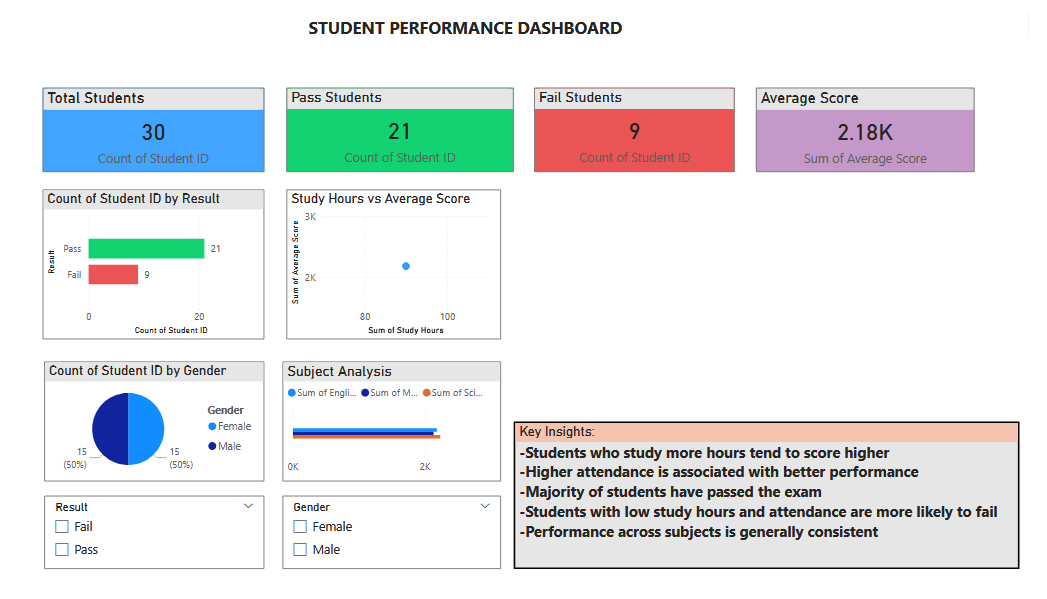

The dashboard page shown, as its layout file describes it:
{"tool":"powerbi","page":{"name":"Page 1","canvas":[1280,720],"ordinal":0},"visuals":[{"type":"card","title":"Total Students","fields":{"Values":["CountNonNull(cleaned_student_data.Student ID)"]},"box":[30.2,95.7,280.5,107.5],"z":0},{"type":"card","title":"Average Score","fields":{"Values":["Sum(cleaned_student_data.Average Score)"]},"box":[934,95.7,277.2,107.5],"z":1000},{"type":"card","title":"Pass Students","fields":{"Values":["CountNonNull(cleaned_student_data.Student ID)"]},"box":[339.3,95.7,287.2,107.5],"z":2000},{"type":"clusteredBarChart","fields":{"Category":["cleaned_student_data.Result"],"Y":["CountNonNull(cleaned_student_data.Student ID)"]},"box":[30.2,225.1,280.5,189.8],"z":3000},{"type":"scatterChart","title":"Study Hours vs Average Score","fields":{"X":["Sum(cleaned_student_data.Study Hours)"],"Y":["Sum(cleaned_student_data.Average Score)"]},"box":[339.3,225.1,272.1,189.8],"z":4000},{"type":"pieChart","fields":{"Category":["cleaned_student_data.Gender"],"Y":["CountNonNull(cleaned_student_data.Student ID)"]},"box":[31.9,443.5,278.8,151.2],"z":5000},{"type":"slicer","fields":{"Values":["cleaned_student_data.Gender"]},"box":[334.3,613.1,277.2,92.4],"z":6000},{"type":"slicer","fields":{"Values":["cleaned_student_data.Result"]},"box":[31.9,613.1,278.8,92.4],"z":7000},{"type":"card","title":"Fail Students","fields":{"Values":["CountNonNull(cleaned_student_data.Student ID)"]},"box":[653.4,95.7,253.6,107.5],"z":8000},{"type":"clusteredBarChart","title":"Subject Analysis","fields":{"Y":["Sum(cleaned_student_data.English Score)","Sum(cleaned_student_data.Math Score)","Sum(cleaned_student_data.Science Score)"]},"box":[334.3,443.5,277.2,151.2],"z":9000},{"type":"textbox","box":[362,0,556,82.3],"z":10000},{"type":"textbox","title":"Key Insights:","box":[626.6,519.1,641.7,186.5],"z":11000}]}

Visuals, with their boxes in screenshot pixels (x1, y1, x2, y2), scaled from the page's 1280x720 canvas onto the 1047x599 screenshot:
"Total Students" card: bbox(25, 80, 254, 169)
"Average Score" card: bbox(764, 80, 991, 169)
"Pass Students" card: bbox(278, 80, 512, 169)
clusteredBarChart - cleaned_student_data.Result x CountNonNull(cleaned_student_data.Student ID): bbox(25, 187, 254, 345)
"Study Hours vs Average Score" scatterChart: bbox(278, 187, 500, 345)
pieChart - cleaned_student_data.Gender x CountNonNull(cleaned_student_data.Student ID): bbox(26, 369, 254, 495)
slicer - cleaned_student_data.Gender: bbox(273, 510, 500, 587)
slicer - cleaned_student_data.Result: bbox(26, 510, 254, 587)
"Fail Students" card: bbox(534, 80, 742, 169)
"Subject Analysis" clusteredBarChart: bbox(273, 369, 500, 495)
textbox: bbox(296, 0, 751, 68)
"Key Insights:" textbox: bbox(513, 432, 1037, 587)
